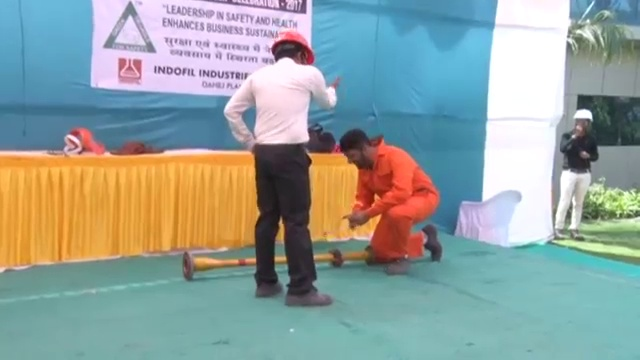helmet: (270, 29, 315, 65), (572, 107, 595, 123)
helmet_off: (340, 127, 379, 170)
helmet_on: (268, 29, 315, 71), (570, 107, 594, 135)
person: (221, 28, 340, 310), (337, 127, 443, 274), (556, 106, 599, 242)
